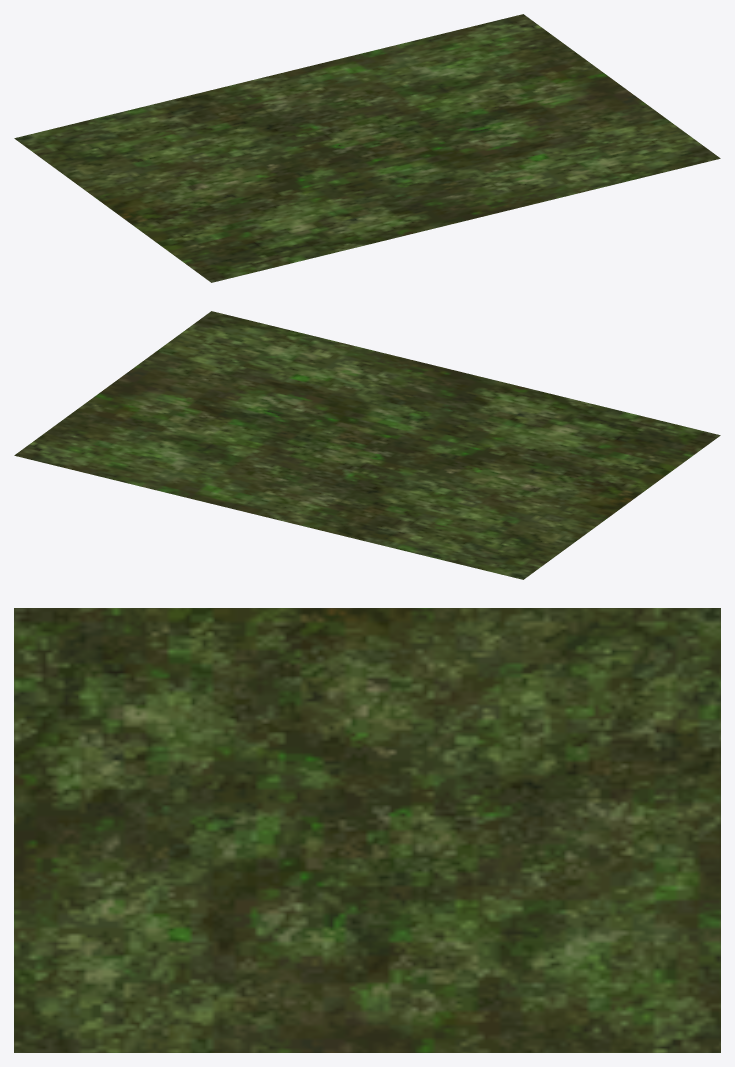
The model's file is OVERHILL_A_01_OBJECT101.fbx.
3 renders of one model, top to bottom at view 1: azimuth 30°, elevation 25°; view 2: azimuth 150°, elevation 25°; view 3: azimuth 270°, elevation 25°, orthographic. The views are drawn at different scales.
Visible parts, largest first — view 1: OVERHILL_A_01_OBJECT101; view 2: OVERHILL_A_01_OBJECT101; view 3: OVERHILL_A_01_OBJECT101.
Boxes of the visible parts, x1,y1,x2,y2 form: OVERHILL_A_01_OBJECT101: (14, 14, 720, 282); OVERHILL_A_01_OBJECT101: (14, 311, 720, 579); OVERHILL_A_01_OBJECT101: (14, 608, 720, 1052).
Size of the model in its own units: 30000 by 0.00328 by 20148.
1 material, 1 textured.
